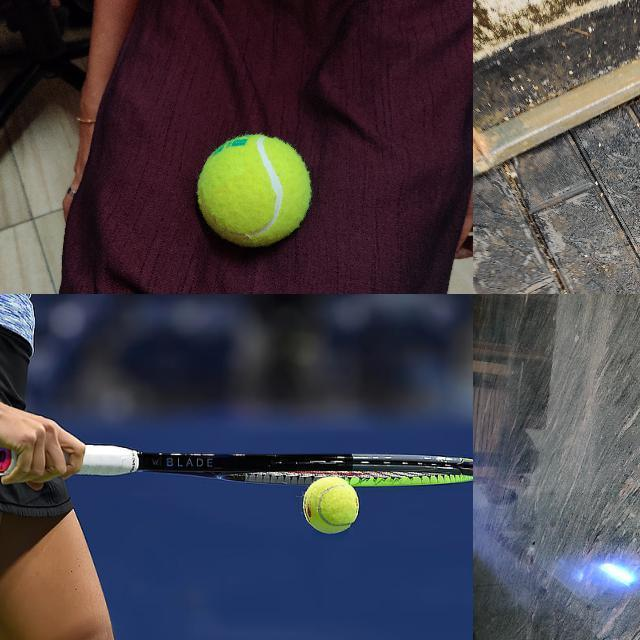tennis-ball: (198, 135, 310, 246), (301, 475, 359, 535)
